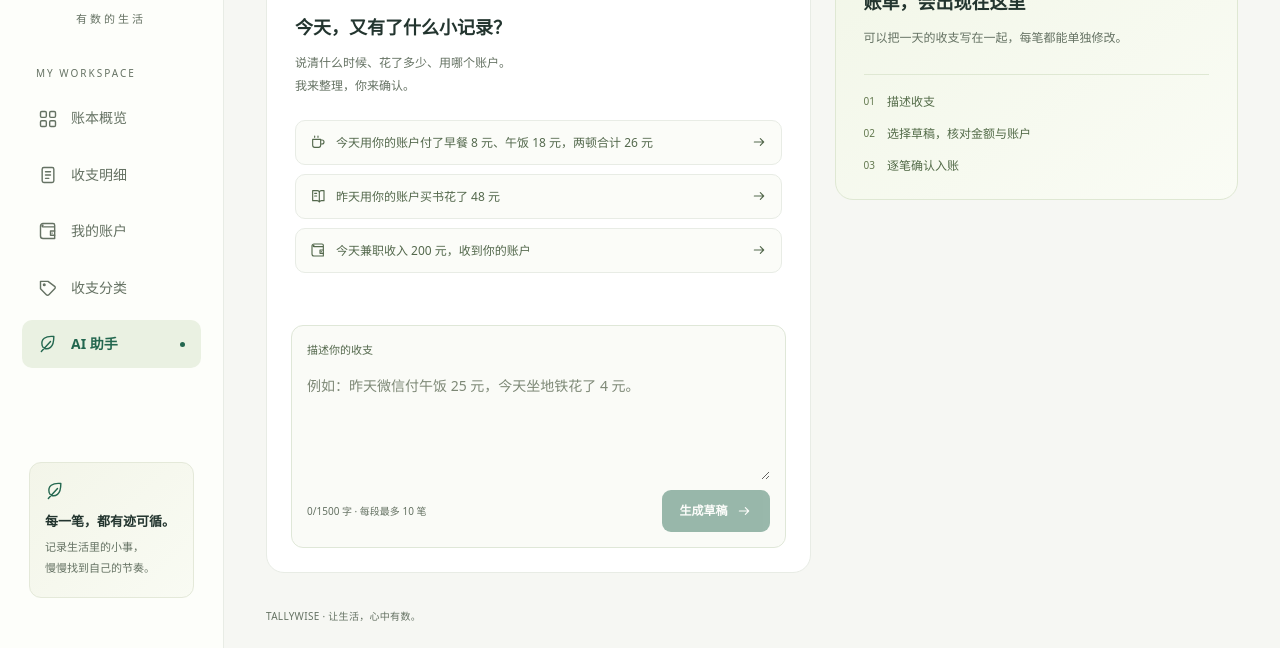
Test: AI 助手路由与入账流程 › 清除本地追踪失败时保持锁定，避免丢失重试编号
This screenshot has width=1280, height=648.
(page scrolled)
Type "今天午饭 25 元，用现金" into the text box labelled "描述你的收支" at (538, 423), box x1=307 y1=366 x2=770 y2=480
(page scrolled)
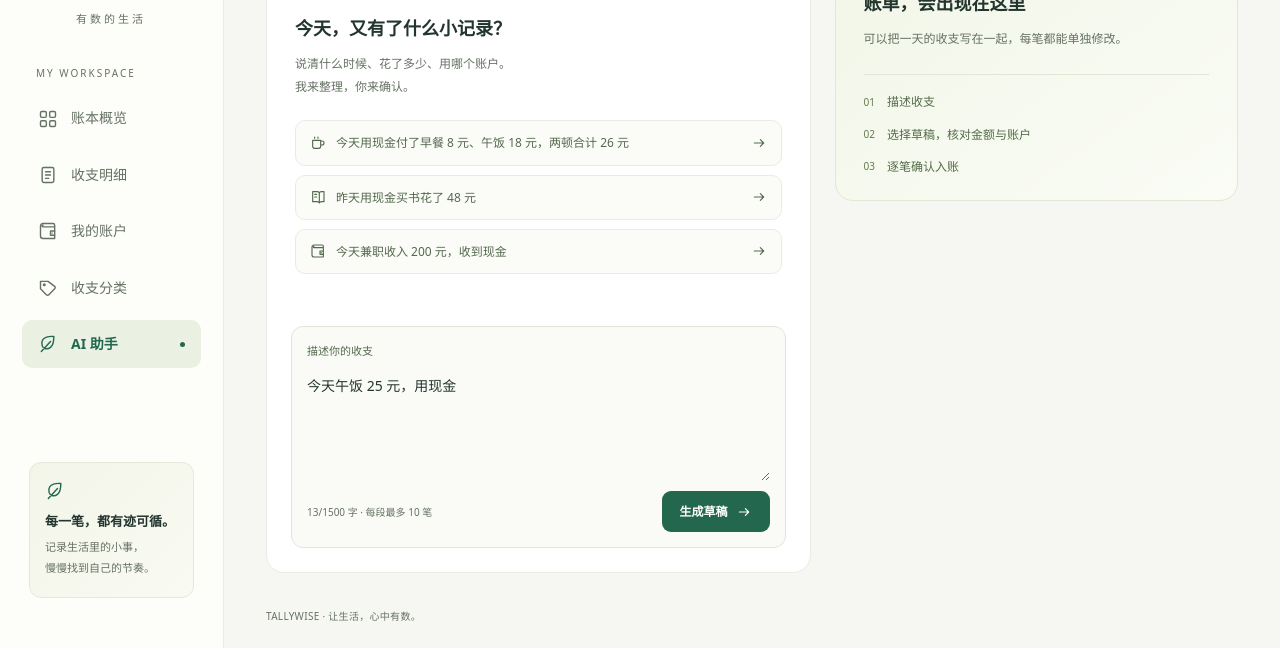
Expected: the button "生成草稿" is enabled
Click the button "生成草稿" at (716, 512), box x1=662 y1=491 x2=770 y2=532
(page scrolled)
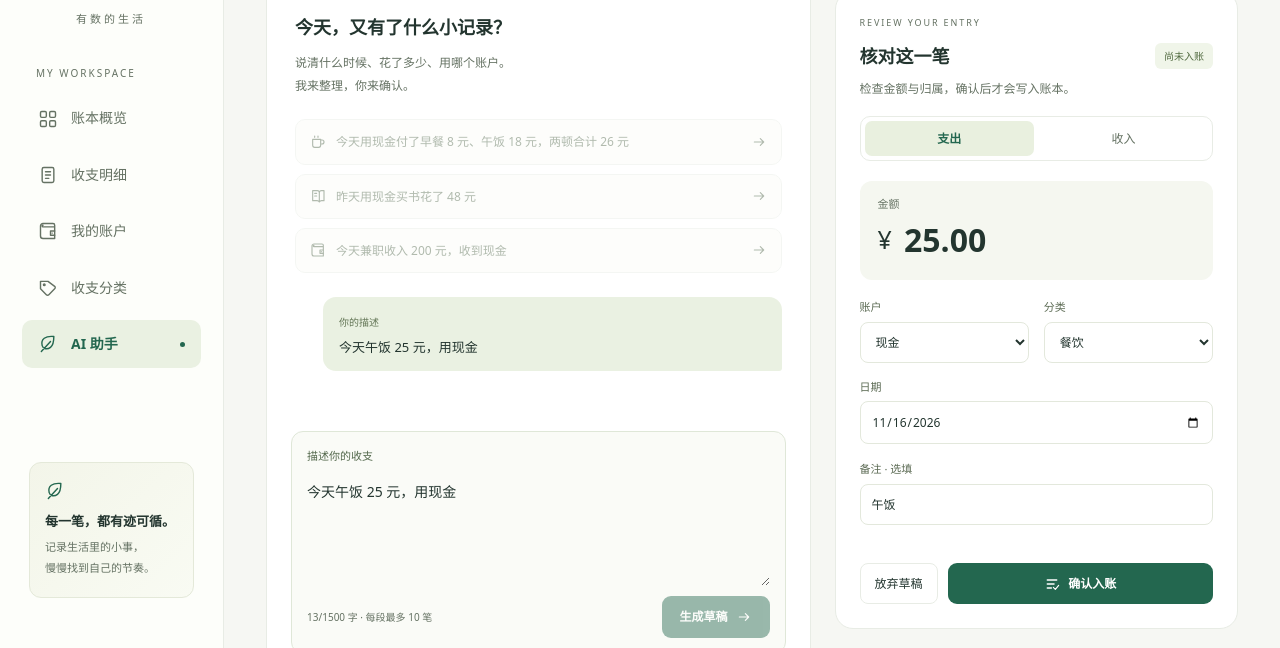
Click the button "确认入账" at (1080, 584), box x1=948 y1=563 x2=1213 y2=604
(page scrolled)
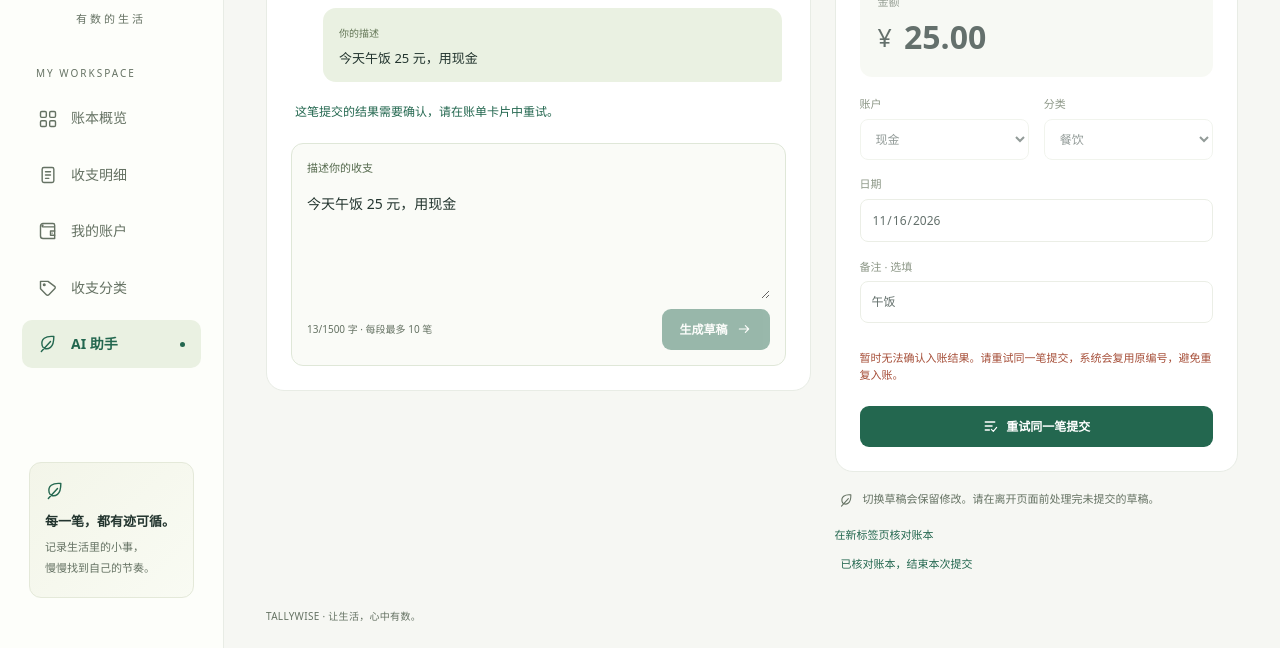
Expected: the text "暂时无法确认入账结果。请重试同一笔提交，系统会复用原编号，避免重复入账。" is shown, x1=860 y1=349 x2=1213 y2=384
Click the button "已核对账本，结束本次提交" at (907, 563), box x1=835 y1=554 x2=979 y2=573
(page scrolled)
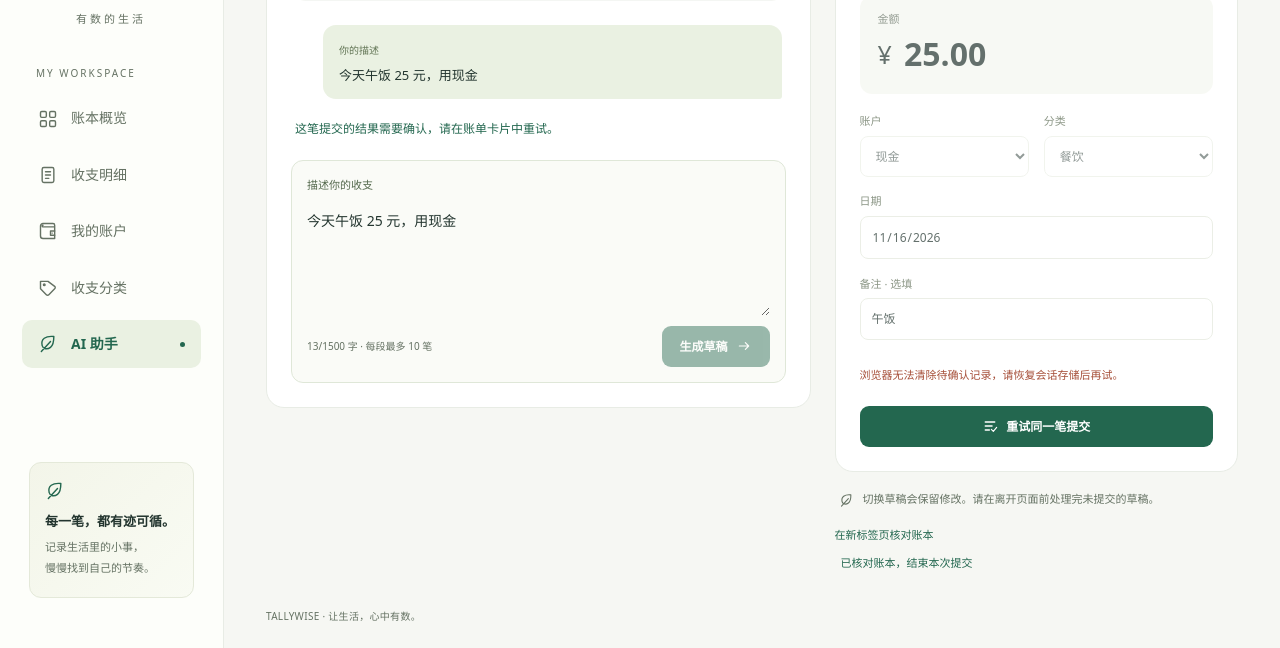
Expected: the text box labelled "描述你的收支" is disabled, x1=307 y1=201 x2=770 y2=316
Expected: the text "浏览器无法清除待确认记录，请恢复会话存储后再试。" is shown, x1=860 y1=367 x2=1124 y2=382
